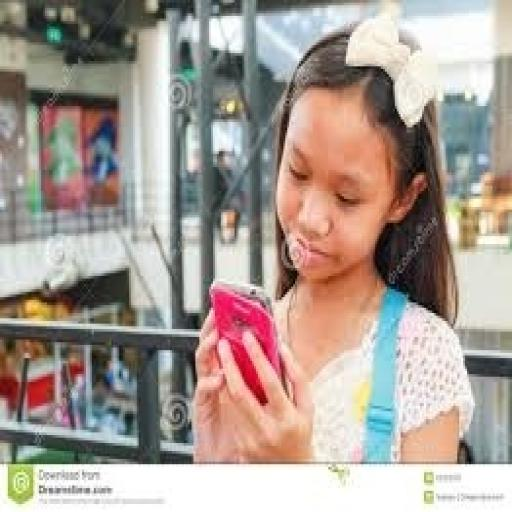texting: (188, 14, 476, 464)
